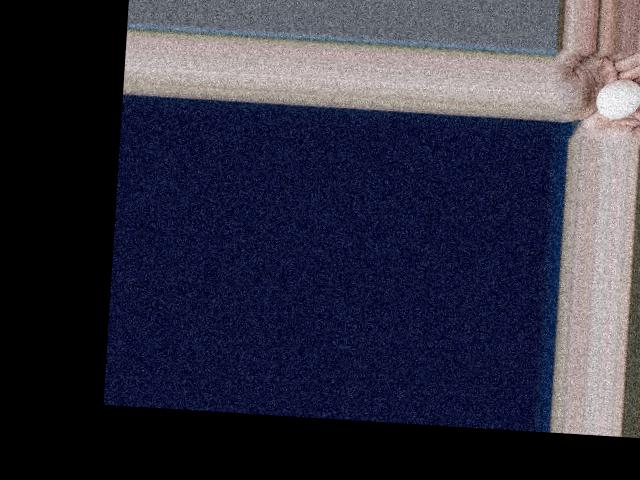egg: (596, 78, 640, 119)
